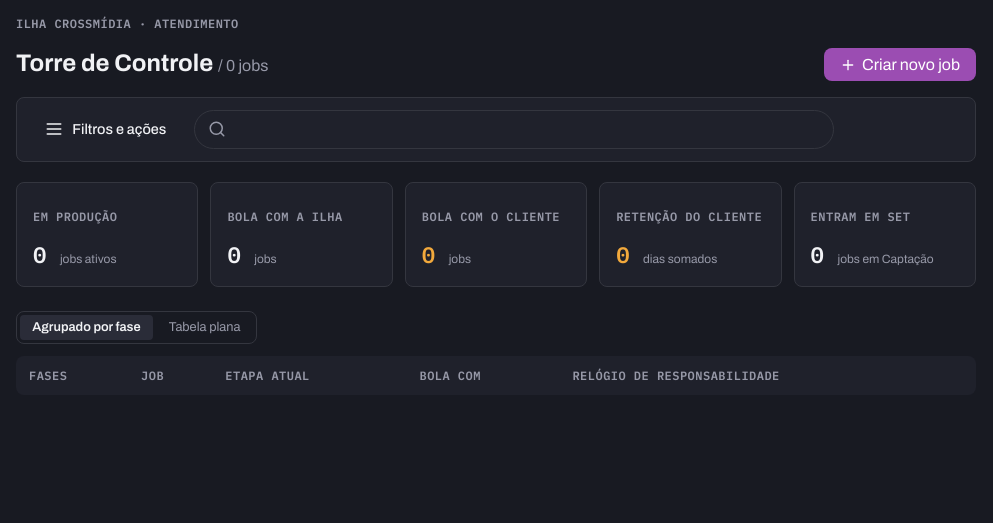
Board › creates a job via the new-job form and refreshes the board
The image size is (993, 523).
Expected: the table is shown, [16,356,976,395]
Click the button "Criar novo job". click: (900, 64)
box: [824,48,976,81]
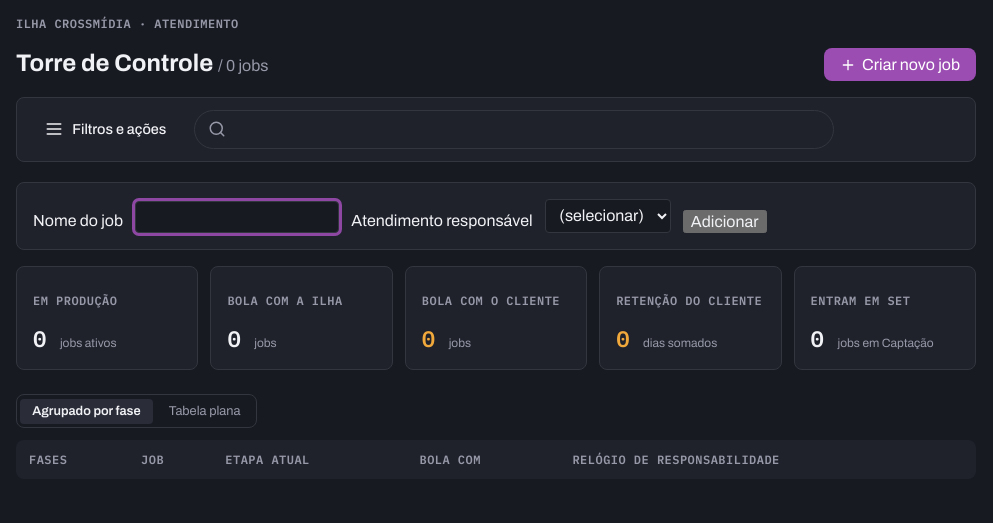
Type "Novo job" into the field labelled "Nome do job". click: (237, 217)
box: [135,201,339,233]
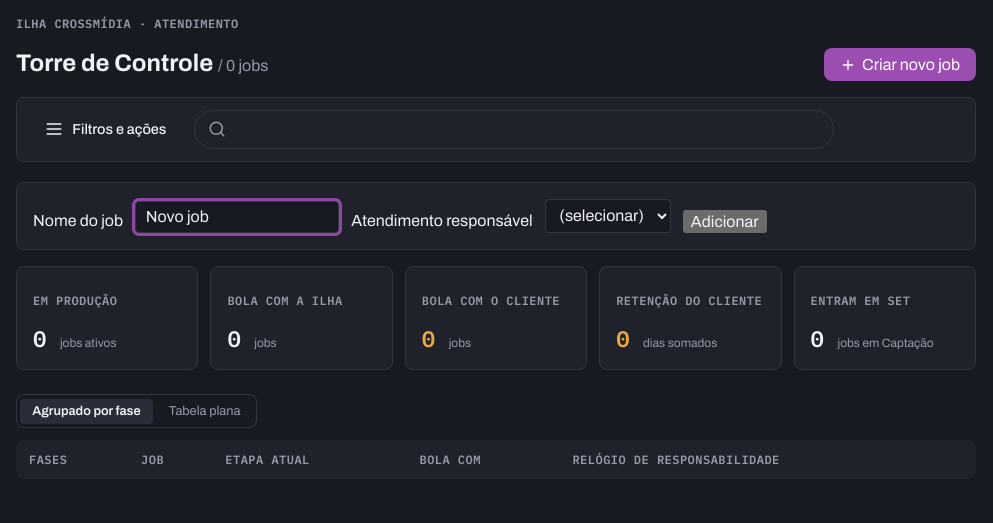
Select "Wilka" in the dropdown labelled "Atendimento responsável". click: (608, 216)
box: [545,199,671,233]
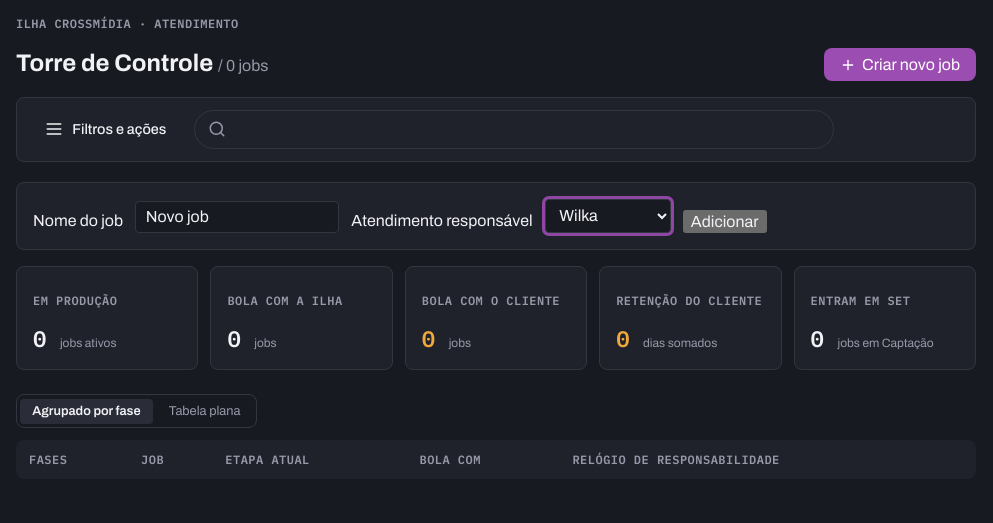
Click the button "Adicionar". click: (725, 221)
box: [683,210,766,233]
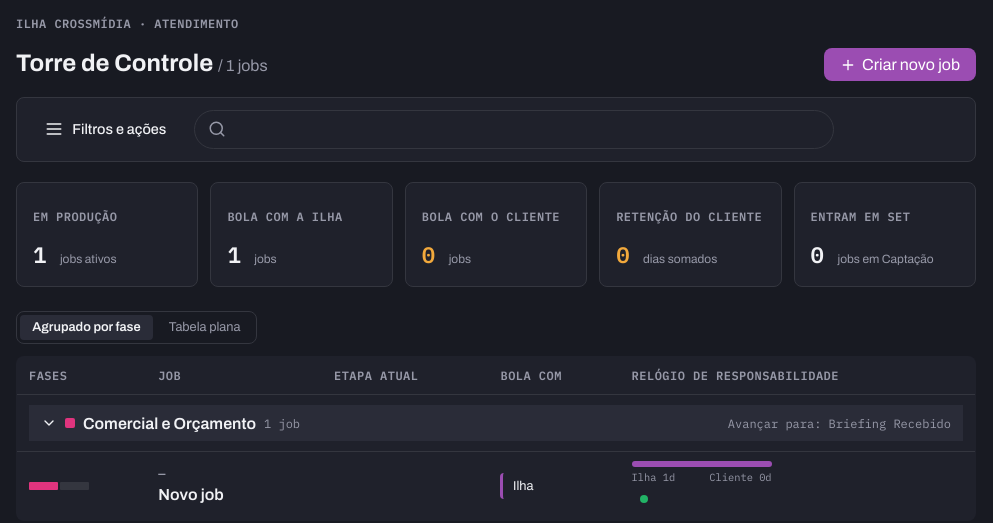
Now the text "Novo job" is shown, box [158,483,224,507]
